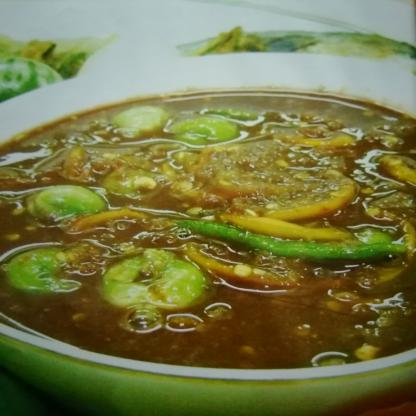Namprig: (0, 64, 415, 408)
